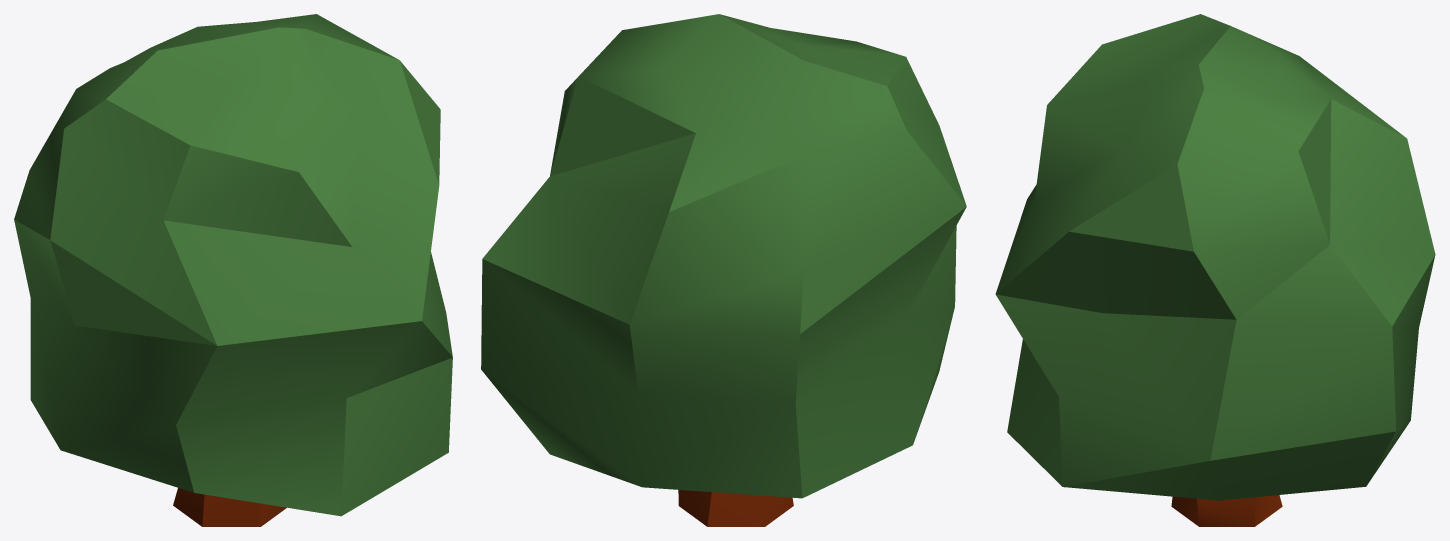
File: bush1.fbx
3 views of the same model, side by side, from view 1: azimuth 30°, elevation 25°; view 2: azimuth 150°, elevation 25°; view 3: azimuth 270°, elevation 25° (orthographic). The views are drawn at different scales.
Parts seen in each view (by area): view 1: Leaves, Trunk; view 2: Leaves, Trunk; view 3: Leaves, Trunk.
Boxes of the visible parts, x1,y1,x2,y2 form: Leaves: [14, 14, 452, 516]; Trunk: [173, 488, 286, 526]; Leaves: [481, 14, 966, 498]; Trunk: [678, 490, 793, 526]; Leaves: [995, 14, 1435, 500]; Trunk: [1171, 495, 1282, 526].
Size of the model in its own units: 0.4691 by 0.5213 by 0.4549.
